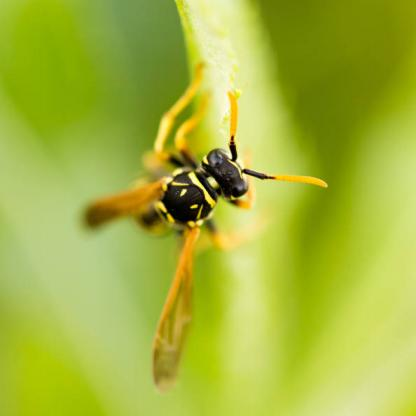sawfly: (76, 60, 329, 395)
